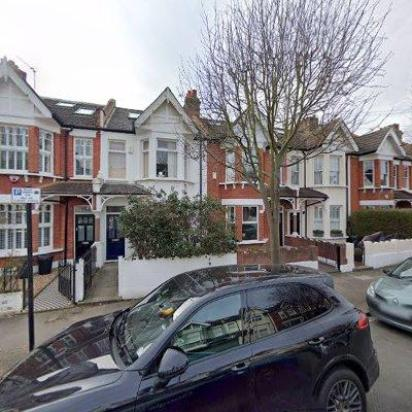stationary-car-onstreet: (0, 254, 374, 410), (362, 241, 410, 361)
